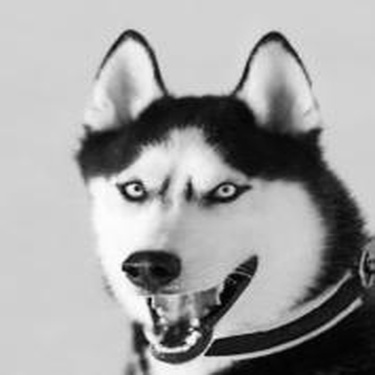dog: (62, 15, 373, 371)
